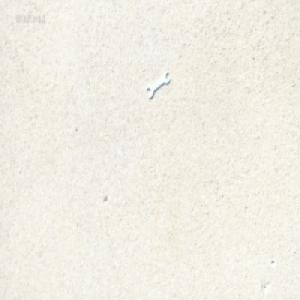Wrench: (146, 69, 170, 99)
